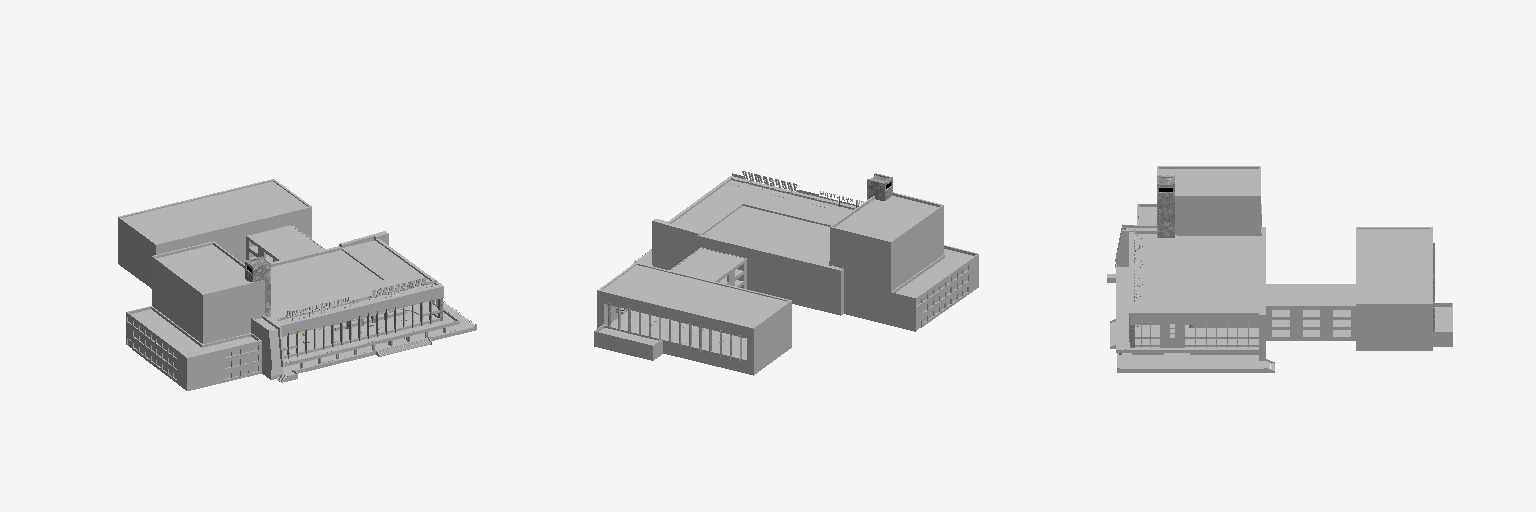
3 renders of one model, left to right at view 1: azimuth 30°, elevation 25°; view 2: azimuth 150°, elevation 25°; view 3: azimuth 270°, elevation 25°, orthographic.
Parts seen in each view (by area): view 1: defaultMaterial.001, defaultMaterial.003, defaultMaterial.007, defaultMaterial.002, defaultMaterial.005, defaultMaterial.004, defaultMaterial.008; view 2: defaultMaterial.003, defaultMaterial.001, defaultMaterial.007, defaultMaterial.002, defaultMaterial.004, defaultMaterial.008; view 3: defaultMaterial.003, defaultMaterial.007, defaultMaterial.001, defaultMaterial.002, defaultMaterial.005, defaultMaterial.006, defaultMaterial.004.
Part boxes in pixels (left/top/right/bottom): defaultMaterial.001: left=126, top=241, right=264, bottom=390; defaultMaterial.003: left=118, top=179, right=324, bottom=288; defaultMaterial.007: left=268, top=239, right=443, bottom=336; defaultMaterial.002: left=251, top=231, right=476, bottom=382; defaultMaterial.005: left=284, top=303, right=459, bottom=366; defaultMaterial.004: left=245, top=256, right=445, bottom=367; defaultMaterial.008: left=275, top=277, right=436, bottom=322; defaultMaterial.003: left=594, top=247, right=791, bottom=375; defaultMaterial.001: left=829, top=192, right=978, bottom=331; defaultMaterial.007: left=668, top=176, right=855, bottom=265; defaultMaterial.002: left=632, top=219, right=843, bottom=315; defaultMaterial.004: left=608, top=173, right=892, bottom=361; defaultMaterial.008: left=726, top=171, right=863, bottom=212; defaultMaterial.003: left=1266, top=227, right=1452, bottom=350; defaultMaterial.007: left=1129, top=232, right=1261, bottom=324; defaultMaterial.001: left=1137, top=166, right=1261, bottom=234; defaultMaterial.002: left=1107, top=224, right=1274, bottom=372; defaultMaterial.005: left=1116, top=264, right=1258, bottom=352; defaultMaterial.006: left=1135, top=323, right=1258, bottom=347; defaultMaterial.004: left=1119, top=175, right=1434, bottom=354.
Bounding box in the file's own units: 5.59 × 1.88 × 6.
6 materials, 1 textured.